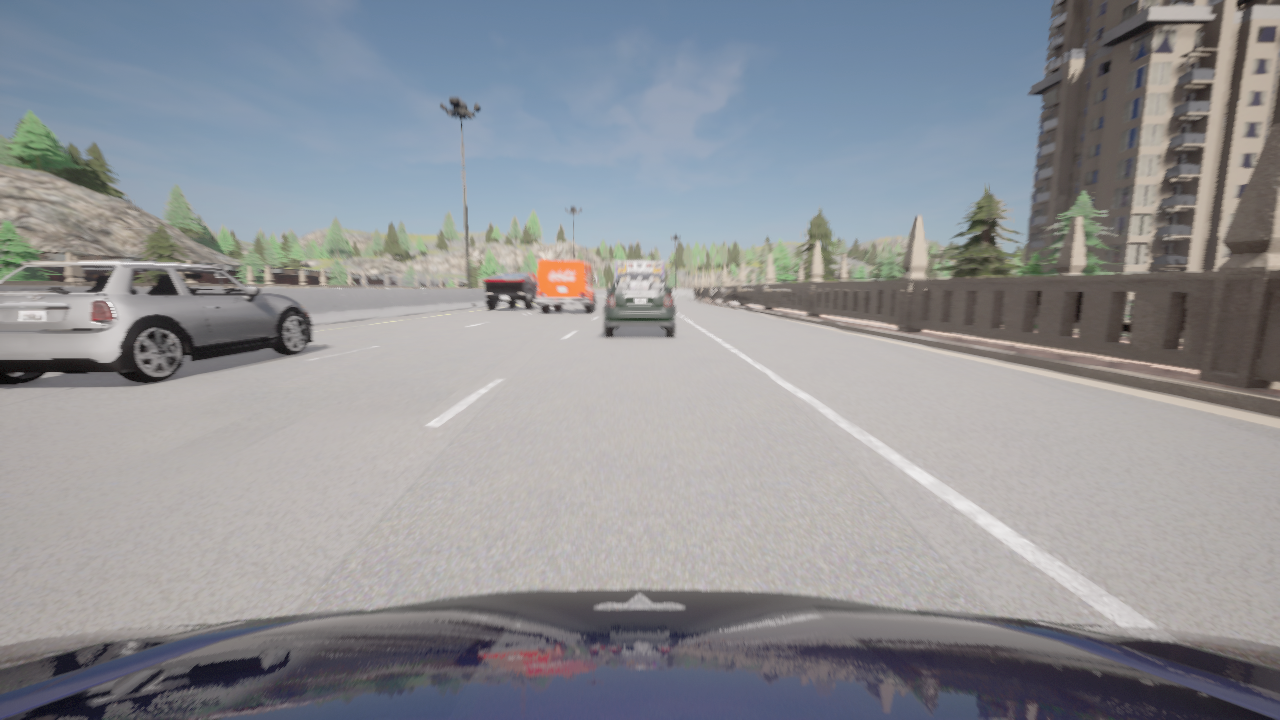cyclist: (0, 588, 1279, 719), (0, 261, 313, 384), (604, 272, 675, 336), (537, 260, 598, 312), (484, 273, 538, 309), (616, 261, 664, 276)
